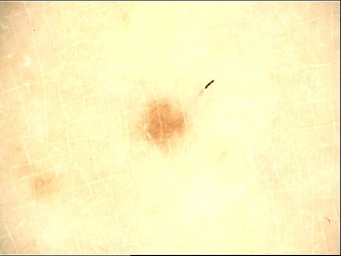melanoma: (136, 98, 194, 155)
